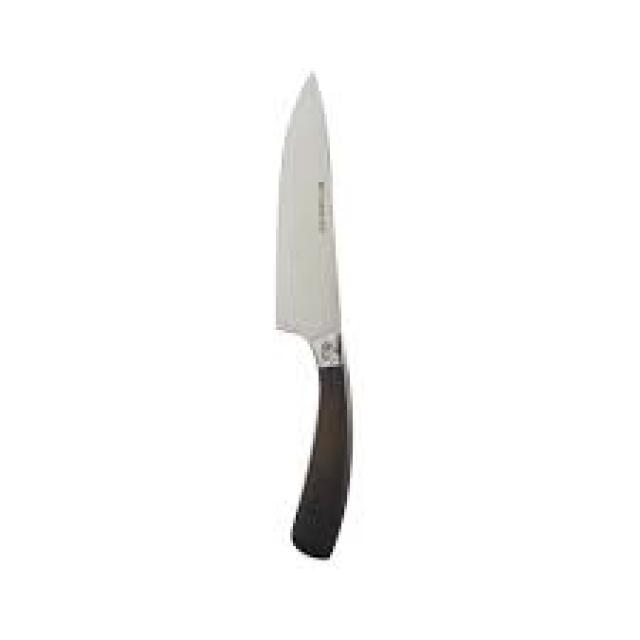knife: (267, 60, 364, 564)
